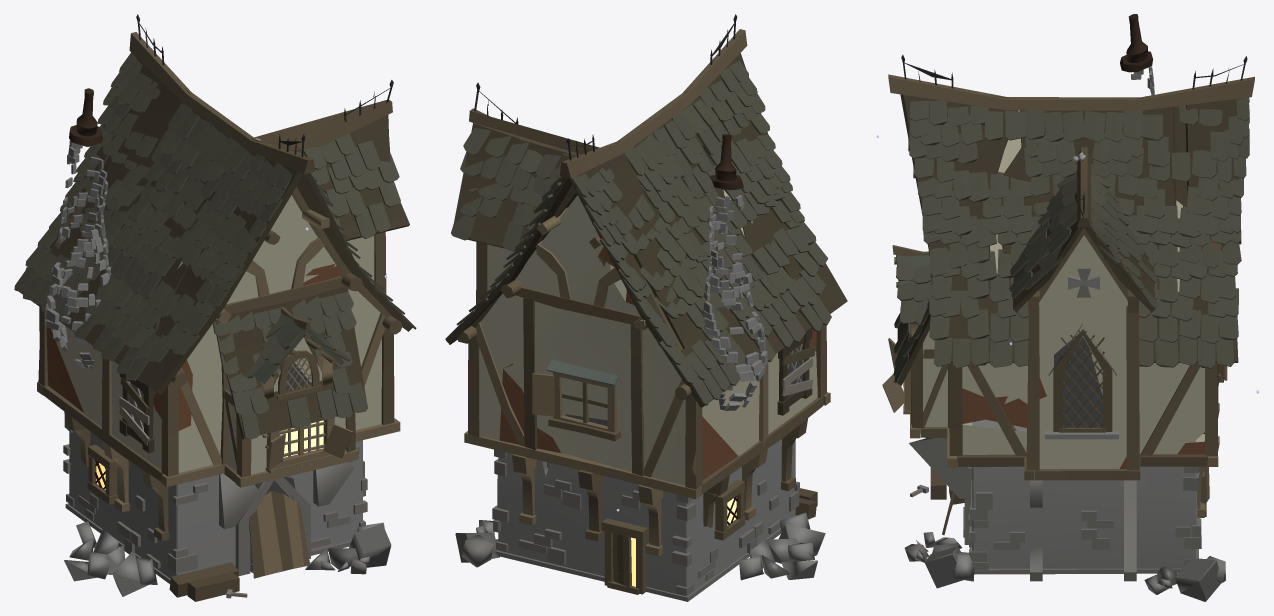
Rendered from cottage_worn.glb.
3 views of the same model, side by side, from view 1: azimuth 30°, elevation 25°; view 2: azimuth 150°, elevation 25°; view 3: azimuth 270°, elevation 25° (orthographic). The views are drawn at different scales.
Visible parts, largest first — view 1: polySurface107_Roof_tiles_old_0, House_model1:pCube1_Stone_light_0, House_model1:polySurface6_Wood_beams_roof_0, House_model1:pCube38_Wood_beams_0, House_model1:polySurface5_Wall_stucco_0, House_model1:pCube11_Wood_beams_light_0, House_model1:pCube39_Wood_beamS_DARK_0, House_model1:polySurface3_Stone_dark_0, House_model1:polySurface5_Brick_red_0, polySurface112_Stone_light_extra_0, House_model1:House_model1:pCube102_Wood_beams_light1_0, House_model1:polySurface21_Roof_tiles_medium_0 (+4 smaller); view 2: polySurface107_Roof_tiles_old_0, House_model1:polySurface5_Wall_stucco_0, House_model1:pCube1_Stone_light_0, House_model1:pCube38_Wood_beams_0, House_model1:polySurface6_Wood_beams_roof_0, House_model1:pCube11_Wood_beams_light_0, House_model1:polySurface3_Stone_dark_0, House_model1:pCube39_Wood_beamS_DARK_0, House_model1:polySurface5_Brick_red_0, House_model1:polySurface48_Roof_tiles_extra_0, House_model1:House_model1:pCube102_Wood_beams_light1_0, House_model1:polySurface33_Metall_black1_0 (+1 smaller); view 3: polySurface107_Roof_tiles_old_0, House_model1:polySurface5_Wall_stucco_0, House_model1:pCube1_Stone_light_0, House_model1:pCube38_Wood_beams_0, House_model1:polySurface6_Wood_beams_roof_0, House_model1:polySurface3_Stone_dark_0, House_model1:pCube39_Wood_beamS_DARK_0, polySurface112_Stone_light_extra_0, House_model1:polySurface49_Window_dark_0, House_model1:pCube11_Wood_beams_light_0, House_model1:polySurface5_Brick_red_0, House_model1:polySurface2_Metall_oxydedark_0 (+1 smaller).
Part boxes in pixels (left/top/right/bottom): polySurface107_Roof_tiles_old_0: left=14, top=52, right=416, bottom=439; House_model1:pCube1_Stone_light_0: left=45, top=140, right=384, bottom=598; House_model1:polySurface6_Wood_beams_roof_0: left=19, top=55, right=412, bottom=452; House_model1:pCube38_Wood_beams_0: left=25, top=32, right=402, bottom=566; House_model1:polySurface5_Wall_stucco_0: left=51, top=195, right=381, bottom=474; House_model1:pCube11_Wood_beams_light_0: left=37, top=209, right=400, bottom=575; House_model1:pCube39_Wood_beamS_DARK_0: left=55, top=100, right=394, bottom=601; House_model1:polySurface3_Stone_dark_0: left=63, top=415, right=367, bottom=583; House_model1:polySurface5_Brick_red_0: left=46, top=264, right=348, bottom=430; polySurface112_Stone_light_extra_0: left=328, top=523, right=391, bottom=569; House_model1:House_model1:pCube102_Wood_beams_light1_0: left=119, top=358, right=319, bottom=597; House_model1:polySurface21_Roof_tiles_medium_0: left=254, top=313, right=343, bottom=383; polySurface107_Roof_tiles_old_0: left=445, top=61, right=831, bottom=405; House_model1:polySurface5_Wall_stucco_0: left=479, top=190, right=817, bottom=485; House_model1:pCube1_Stone_light_0: left=476, top=195, right=825, bottom=596; House_model1:pCube38_Wood_beams_0: left=457, top=29, right=826, bottom=594; House_model1:polySurface6_Wood_beams_roof_0: left=446, top=53, right=847, bottom=415; House_model1:pCube11_Wood_beams_light_0: left=464, top=207, right=830, bottom=587; House_model1:polySurface3_Stone_dark_0: left=461, top=449, right=799, bottom=601; House_model1:pCube39_Wood_beamS_DARK_0: left=469, top=108, right=817, bottom=519; House_model1:polySurface5_Brick_red_0: left=499, top=246, right=816, bottom=480; House_model1:polySurface48_Roof_tiles_extra_0: left=547, top=359, right=618, bottom=385; House_model1:House_model1:pCube102_Wood_beams_light1_0: left=782, top=343, right=812, bottom=396; House_model1:polySurface33_Metall_black1_0: left=474, top=14, right=737, bottom=160; polySurface107_Roof_tiles_old_0: left=893, top=97, right=1249, bottom=383; House_model1:polySurface5_Wall_stucco_0: left=920, top=110, right=1204, bottom=475; House_model1:pCube1_Stone_light_0: left=915, top=66, right=1197, bottom=594; House_model1:pCube38_Wood_beams_0: left=888, top=74, right=1254, bottom=517; House_model1:polySurface6_Wood_beams_roof_0: left=897, top=94, right=1243, bottom=385; House_model1:polySurface3_Stone_dark_0: left=904, top=267, right=1225, bottom=583; House_model1:pCube39_Wood_beamS_DARK_0: left=911, top=147, right=1219, bottom=534; polySurface112_Stone_light_extra_0: left=925, top=543, right=1220, bottom=601; House_model1:polySurface49_Window_dark_0: left=1054, top=329, right=1102, bottom=427; House_model1:pCube11_Wood_beams_light_0: left=882, top=167, right=1227, bottom=517; House_model1:polySurface5_Brick_red_0: left=962, top=378, right=1207, bottom=468; House_model1:polySurface2_Metall_oxydedark_0: left=1126, top=14, right=1147, bottom=62.
Size of the model in its own units: 7.52 by 10.06 by 7.2.
